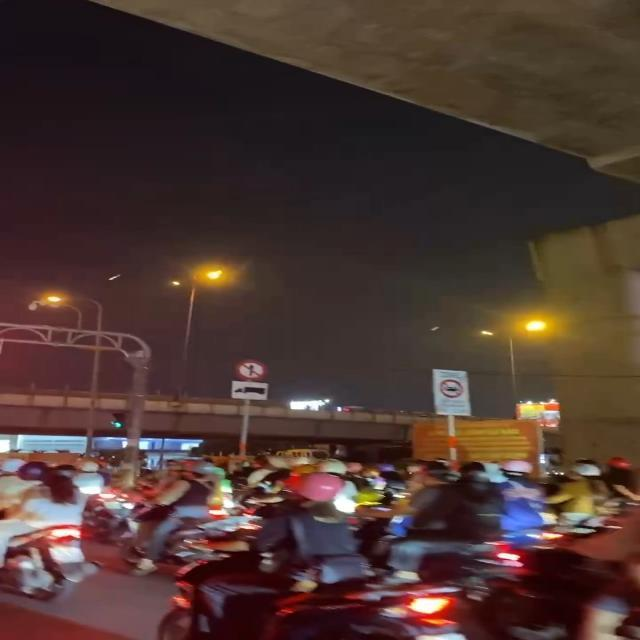136-cam-di-thang: (234, 359, 267, 381)
